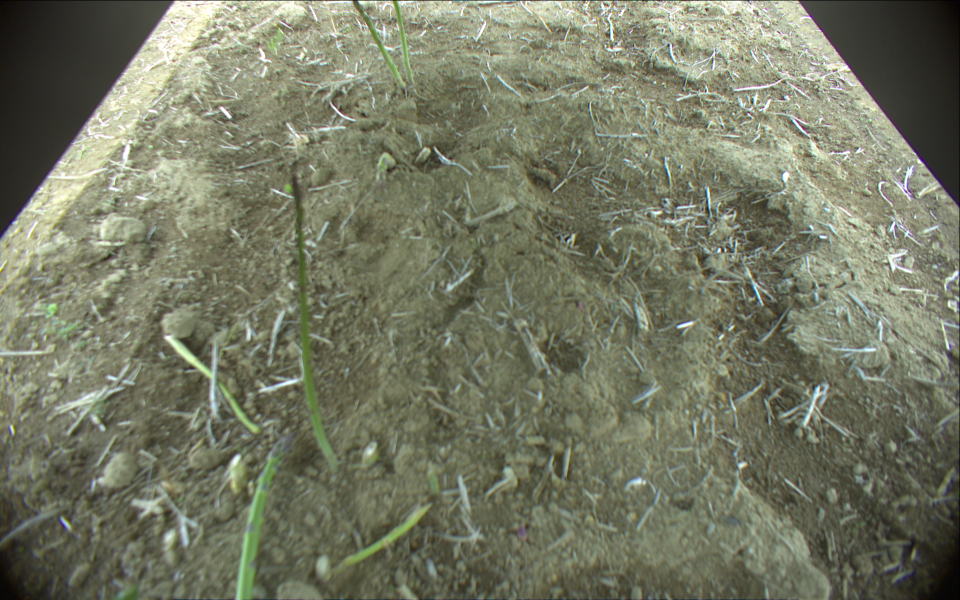aspa: (285, 174, 341, 473), (234, 424, 296, 600), (161, 330, 262, 435), (337, 502, 429, 574), (352, 1, 405, 87), (388, 1, 418, 85)
